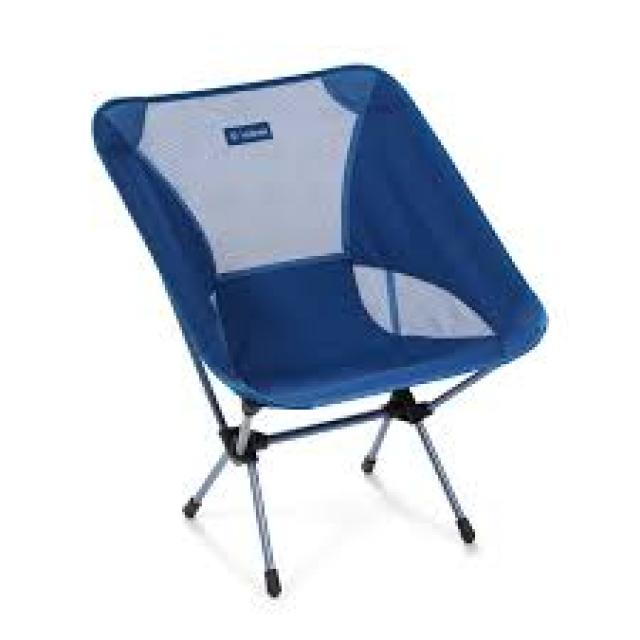chair: (64, 26, 616, 640)
